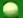white: (0, 0, 23, 18)
